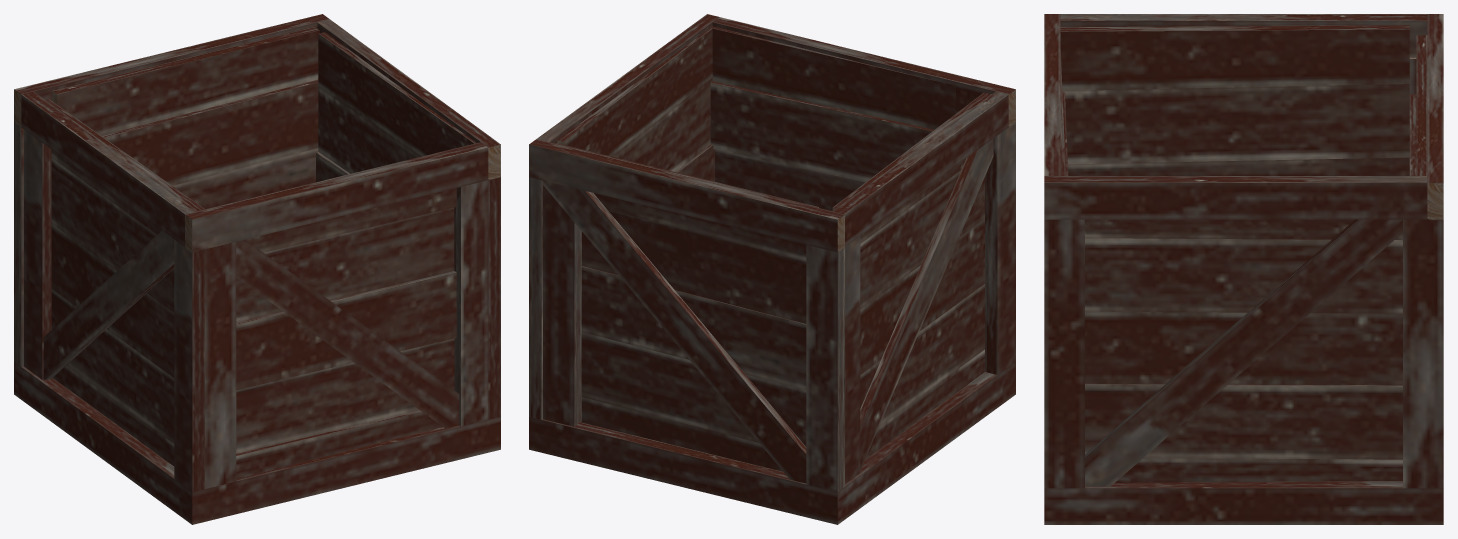
3 renders of one model, left to right at view 1: azimuth 30°, elevation 25°; view 2: azimuth 150°, elevation 25°; view 3: azimuth 270°, elevation 25°, orthographic. The views are drawn at different scales.
Parts seen in each view (by area): view 1: SM_UKR_Box_Med_Open_01.mo; view 2: SM_UKR_Box_Med_Open_01.mo; view 3: SM_UKR_Box_Med_Open_01.mo.
Part boxes in pixels (x1,y1,x2,y2): SM_UKR_Box_Med_Open_01.mo: [14, 14, 500, 524]; SM_UKR_Box_Med_Open_01.mo: [529, 14, 1015, 524]; SM_UKR_Box_Med_Open_01.mo: [1044, 14, 1443, 524].
Bounding box in the file's own units: 100 × 94.95 × 100.
